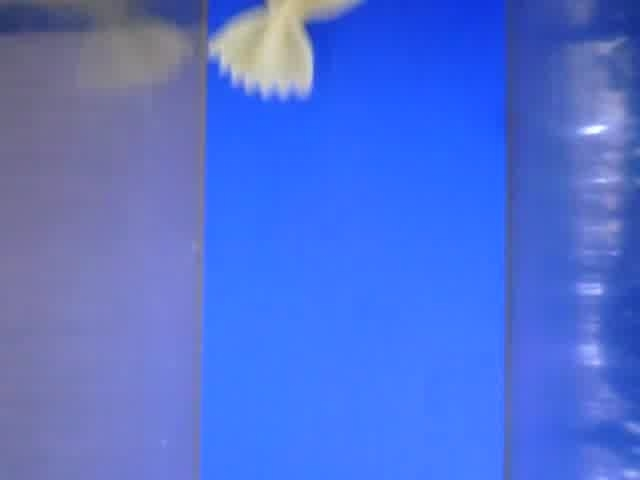farfalle: (208, 1, 365, 102)
